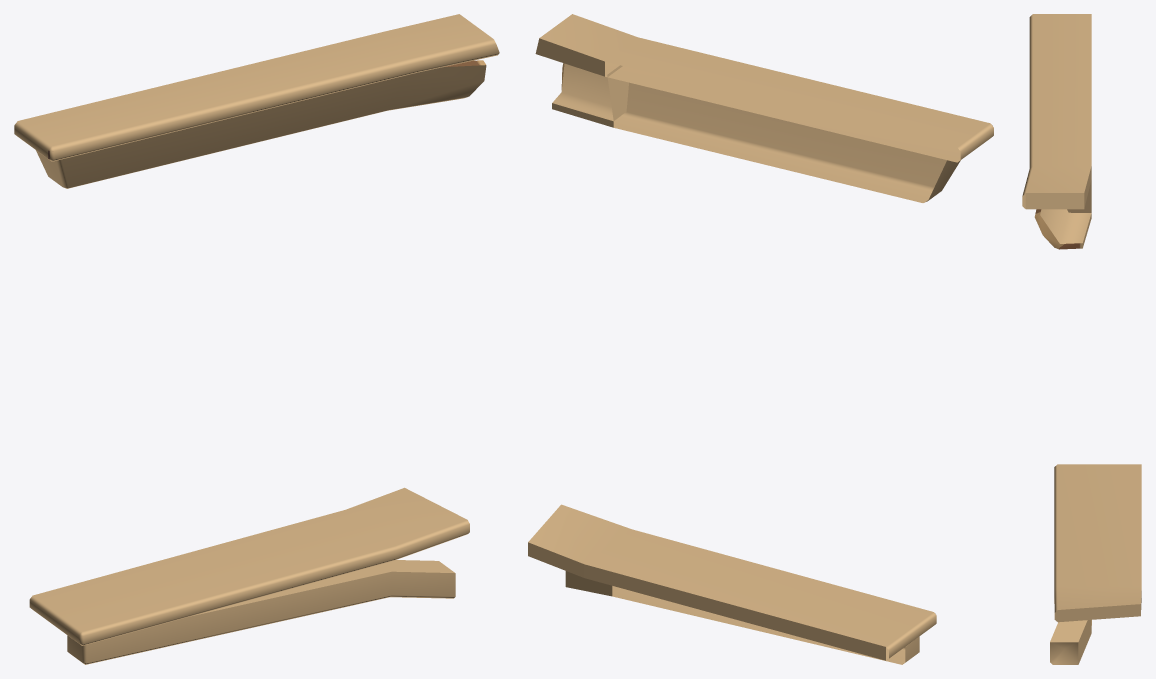
Rendered from DBK_WinDouble_Trim_E_Side.fbx.
3 renders of one model, left to right at view 1: azimuth 30°, elevation 25°; view 2: azimuth 150°, elevation 25°; view 3: azimuth 270°, elevation 25°, orthographic. The views are drawn at different scales.
Parts seen in each view (by area): view 1: DBK_WinDouble_Trim_E_Side; view 2: DBK_WinDouble_Trim_E_Side; view 3: DBK_WinDouble_Trim_E_Side.
Part boxes in pixels (x1,y1,x2,y2): DBK_WinDouble_Trim_E_Side: (14, 14, 499, 664); DBK_WinDouble_Trim_E_Side: (528, 14, 993, 664); DBK_WinDouble_Trim_E_Side: (1022, 14, 1141, 664).
Size of the model in its own units: 133 by 162 by 36.3.
